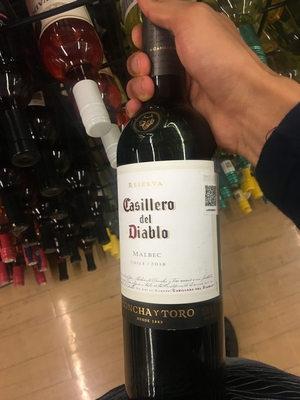casillero del diablo malbec: (108, 22, 239, 399)
